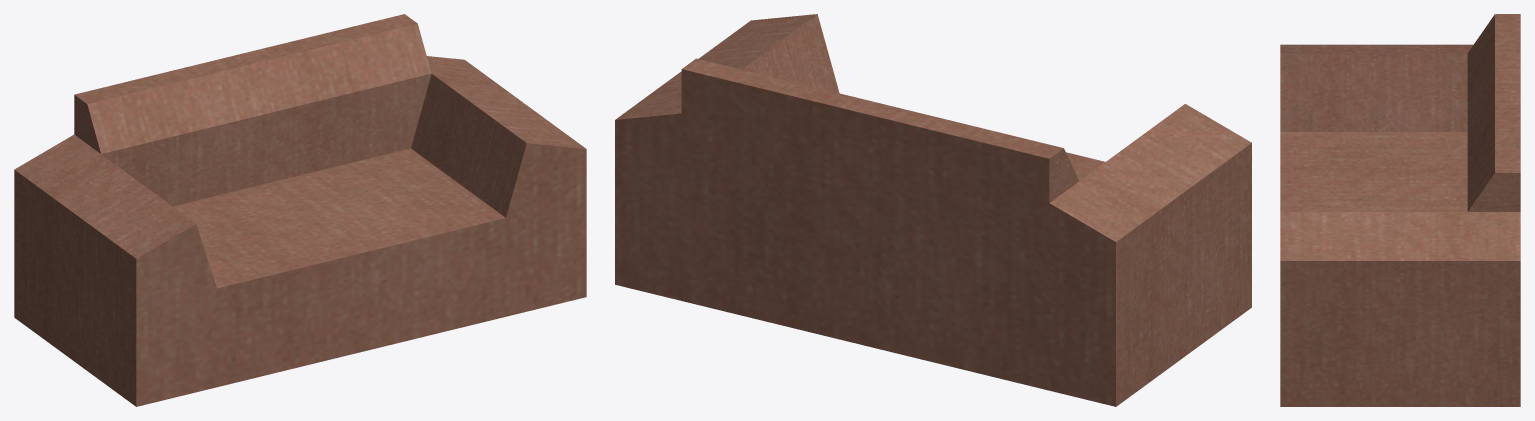
File: Couch_Red.fbx
3 renders of one model, left to right at view 1: azimuth 30°, elevation 25°; view 2: azimuth 150°, elevation 25°; view 3: azimuth 270°, elevation 25°, orthographic. The views are drawn at different scales.
Parts seen in each view (by area): view 1: Couch_Red_1; view 2: Couch_Red_1; view 3: Couch_Red_1.
Boxes of the visible parts, x1,y1,x2,y2 form: Couch_Red_1: (14,14,586,406); Couch_Red_1: (615,14,1251,406); Couch_Red_1: (1280,14,1520,406).
Bounding box in the file's own units: 233 × 103 × 109.
